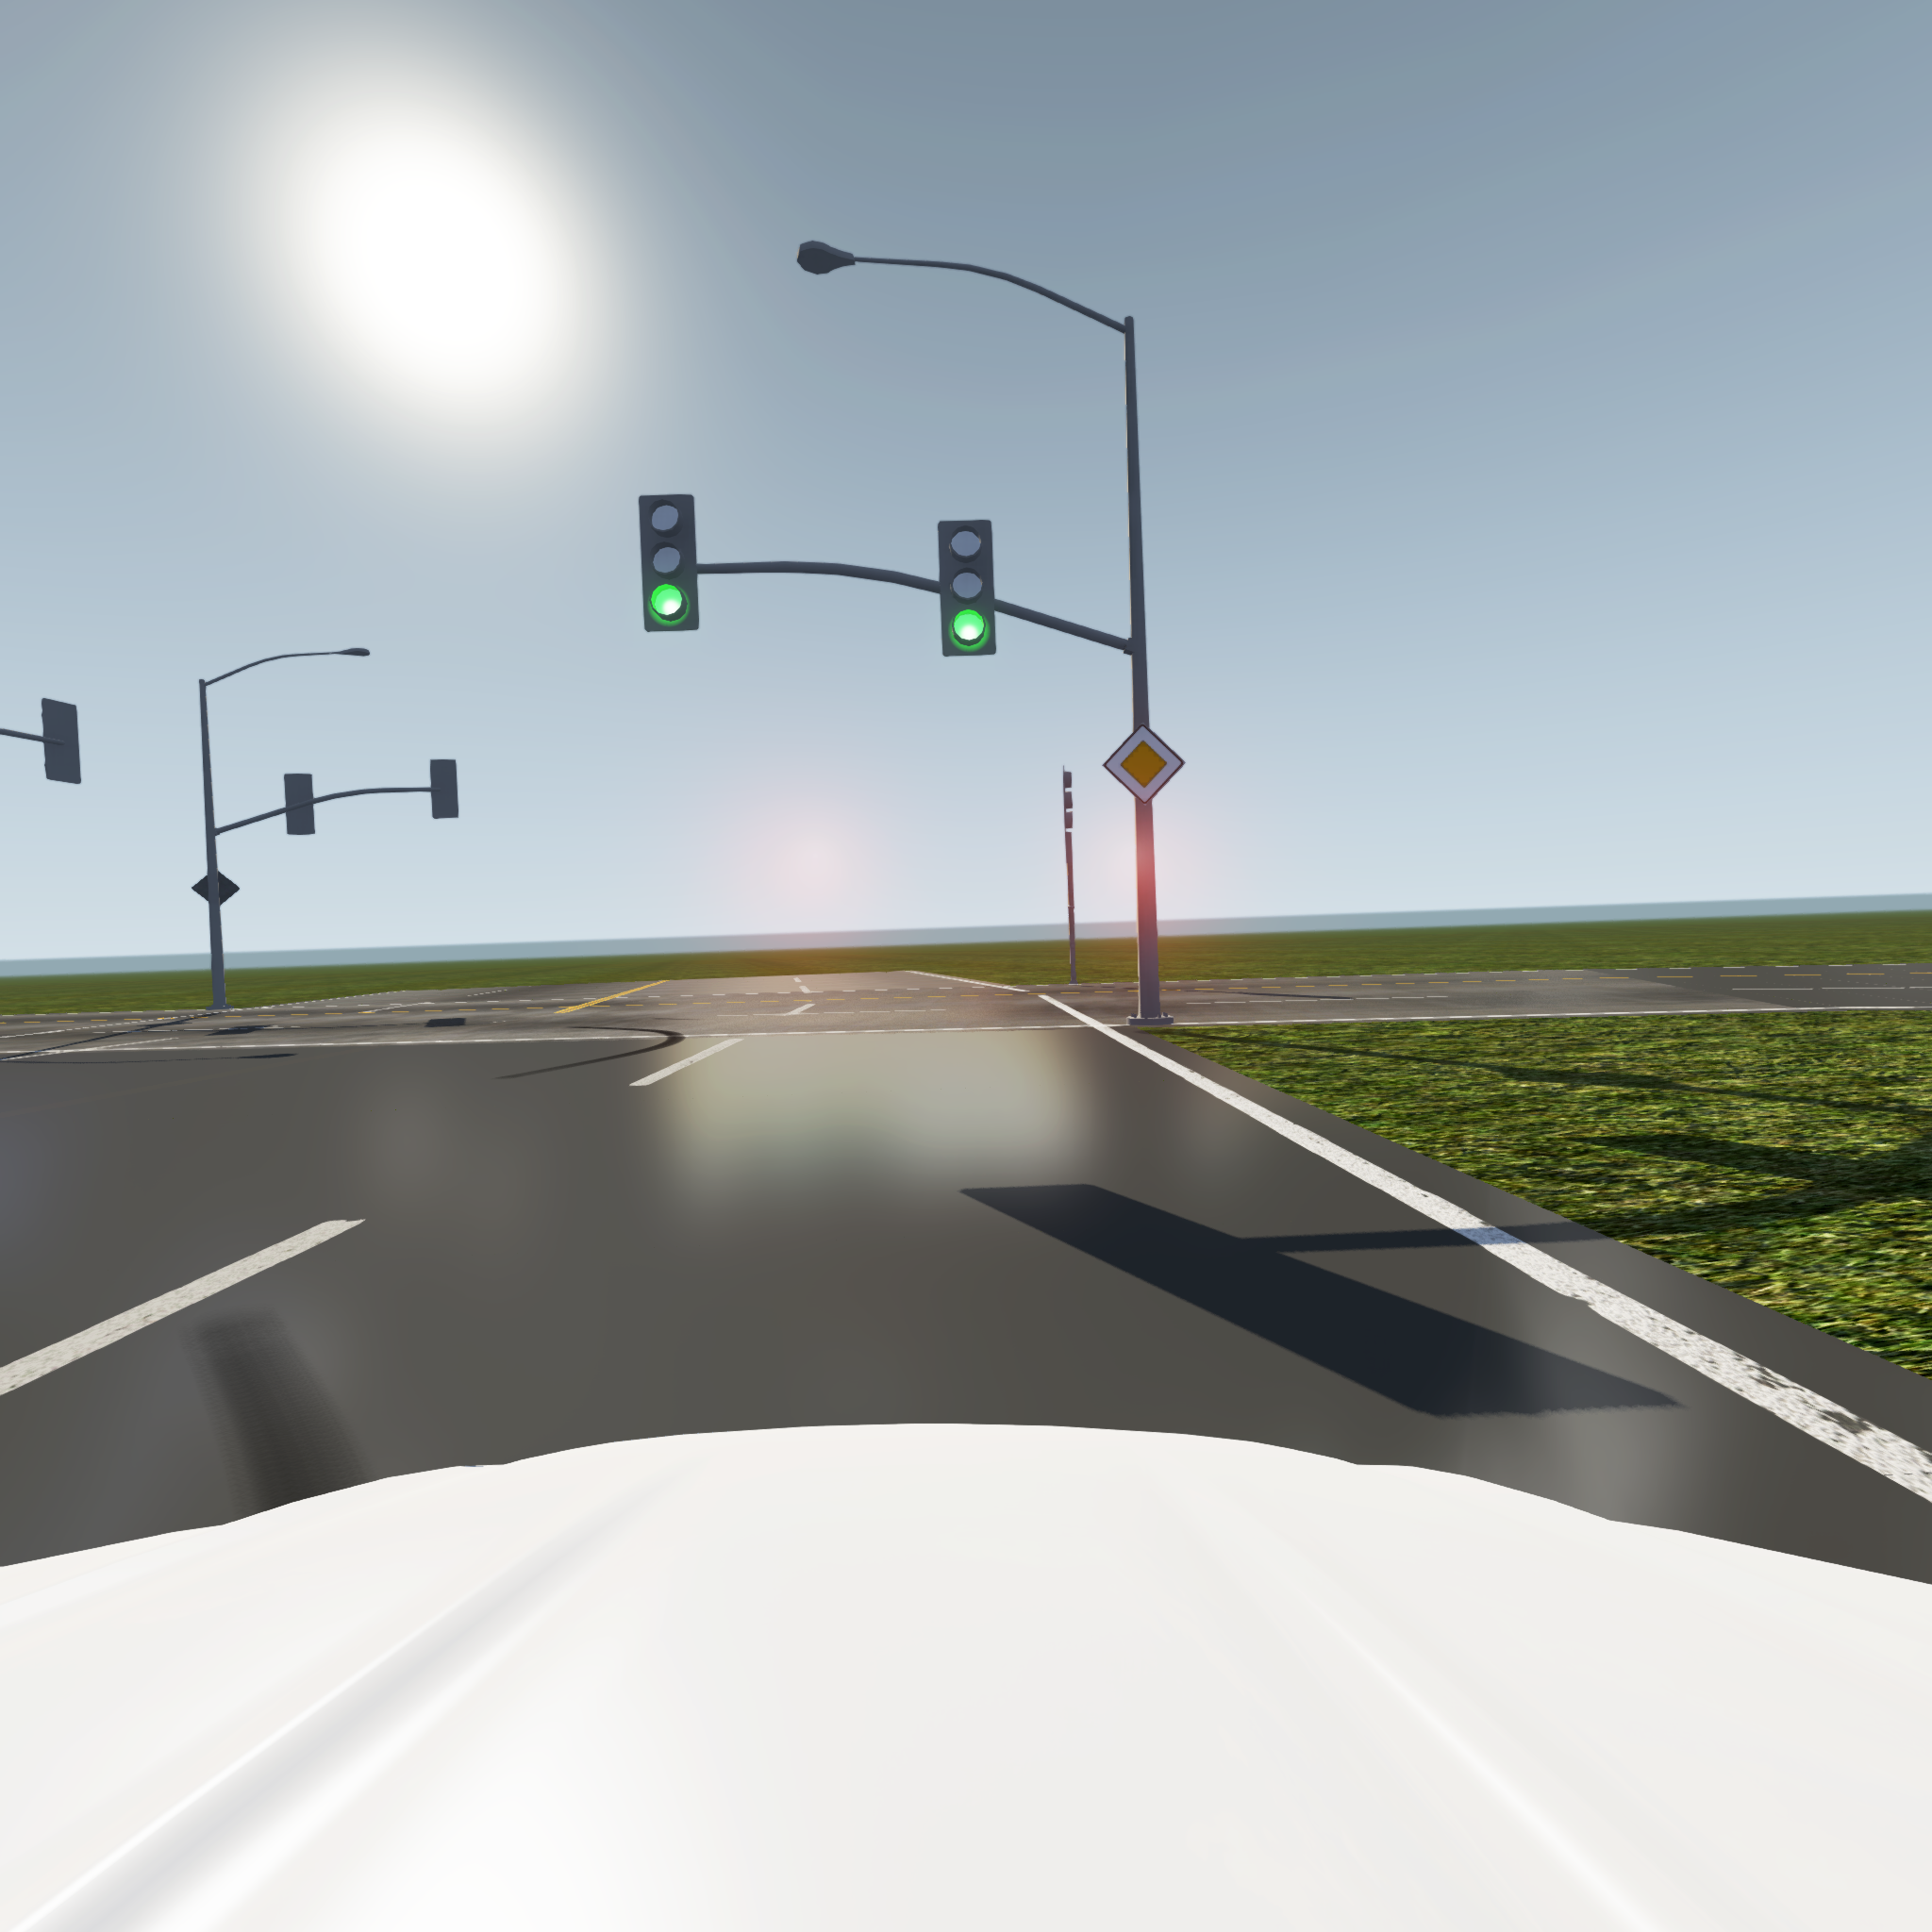green: (640, 495, 701, 632)
